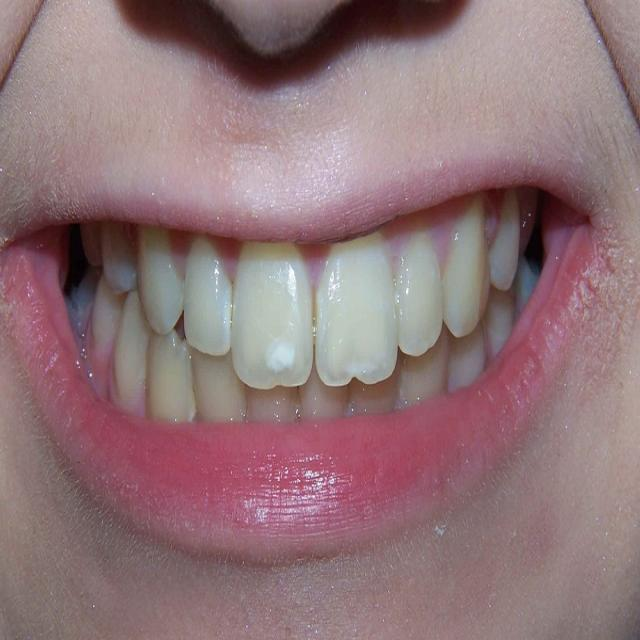tooth: (230, 244, 317, 387), (319, 241, 400, 378), (181, 241, 238, 352), (400, 228, 447, 354), (443, 216, 495, 328), (135, 232, 186, 342), (144, 340, 207, 422), (81, 272, 121, 357), (119, 300, 147, 415), (486, 195, 520, 289), (200, 360, 246, 419), (300, 374, 352, 420), (106, 226, 138, 300), (487, 294, 520, 356), (447, 334, 488, 383), (396, 357, 446, 394), (248, 392, 299, 426), (352, 384, 395, 414), (84, 224, 106, 268), (517, 257, 536, 305)
